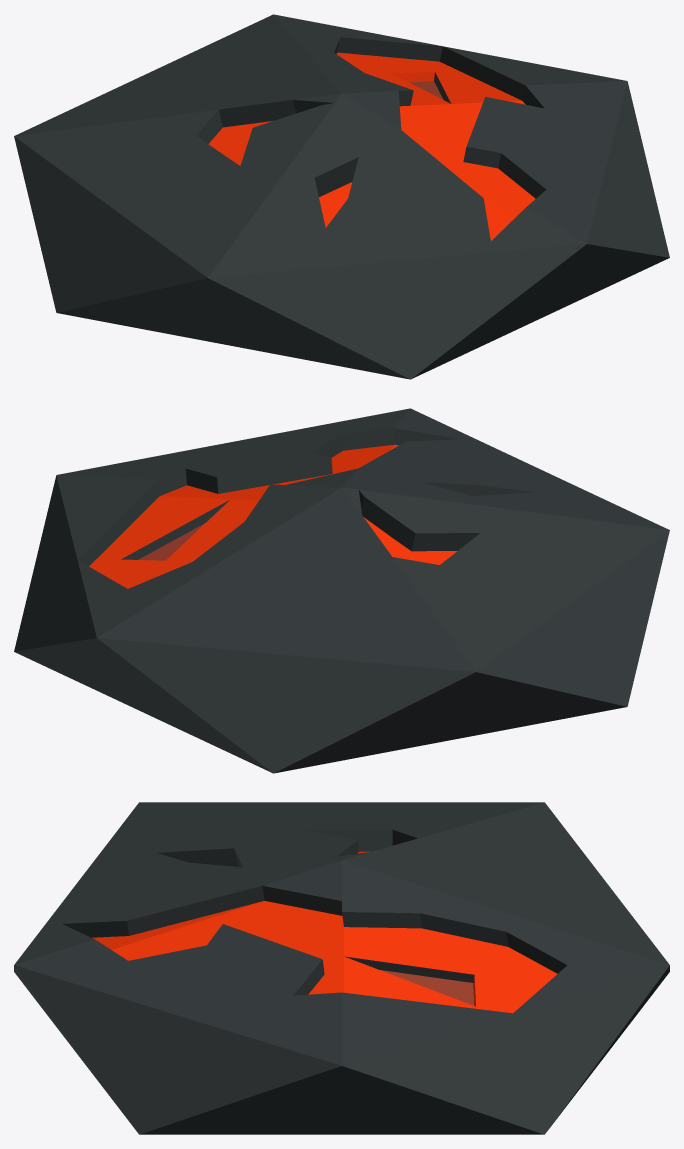
The model's file is EruptionWarning.fbx.
3 renders of one model, top to bottom at view 1: azimuth 30°, elevation 25°; view 2: azimuth 150°, elevation 25°; view 3: azimuth 270°, elevation 25°, orthographic. The views are drawn at different scales.
Parts seen in each view (by area): view 1: Icosphere; view 2: Icosphere; view 3: Icosphere.
Part boxes in pixels (x1,y1,x2,y2): Icosphere: (14, 14, 669, 379); Icosphere: (14, 408, 669, 773); Icosphere: (14, 802, 669, 1134).
Bounding box in the file's own units: 792 × 237 × 753.
